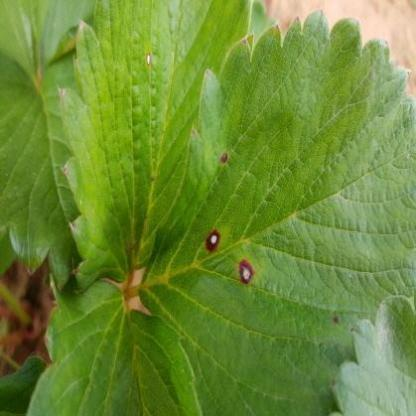Strawberry_Leaf_Spot: (136, 9, 415, 415), (57, 0, 254, 295)
